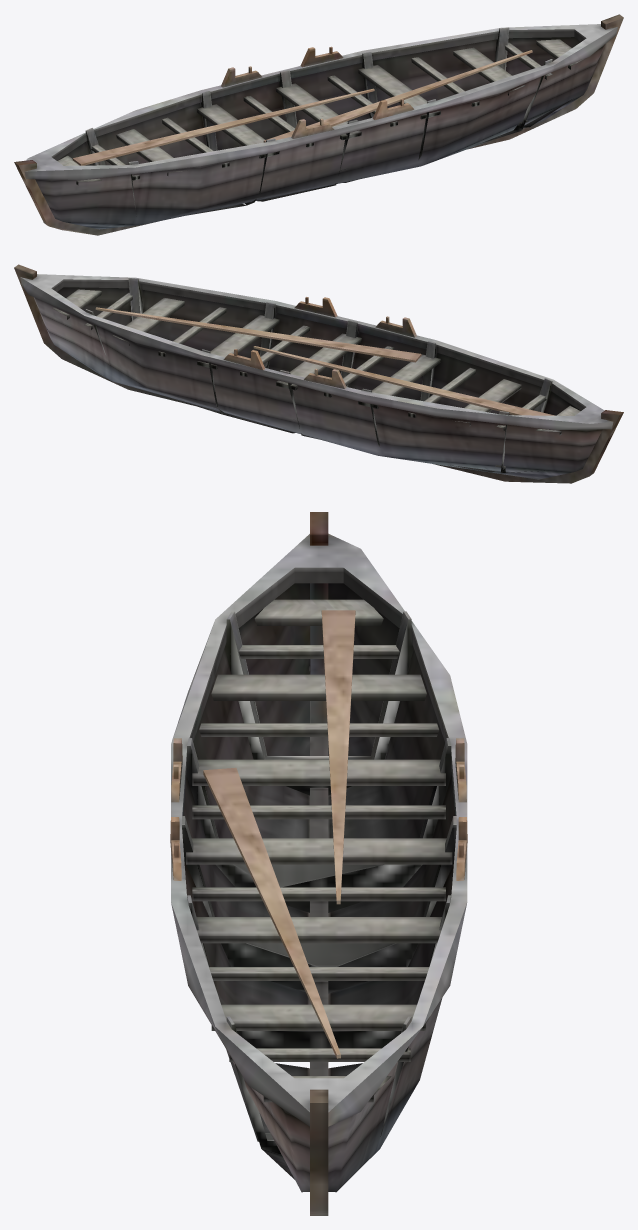
Rendered from Boat3.glb.
The picture shows the model from 3 angles, top to bottom: view 1: azimuth 30°, elevation 25°; view 2: azimuth 150°, elevation 25°; view 3: azimuth 270°, elevation 25°; orthographic projection. The views are drawn at different scales.
Visible parts, largest first — view 1: Boat3; view 2: Boat3; view 3: Boat3.
Boxes of the visible parts, x1,y1,x2,y2 form: Boat3: (14, 14, 623, 235); Boat3: (14, 264, 623, 483); Boat3: (170, 512, 467, 1215).
Bounding box in the file's own units: 0.0457 × 0.00737 × 0.00971.
1 material, 1 textured.
